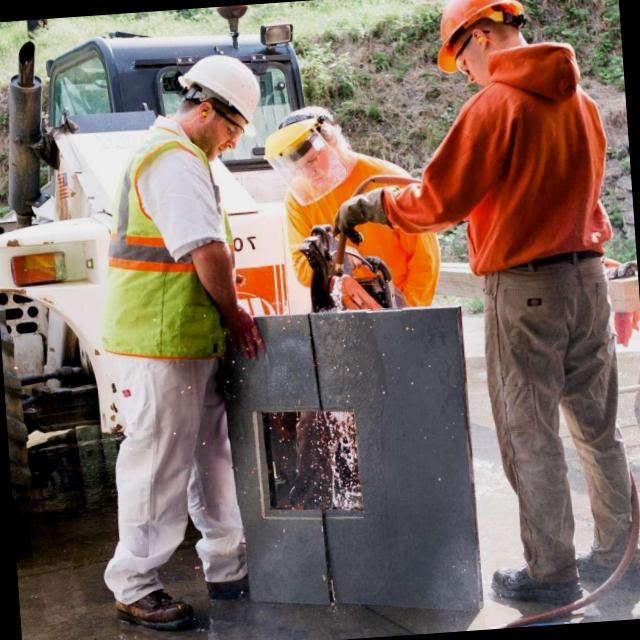helmet: (170, 51, 268, 140), (418, 0, 537, 72)
no-vest: (438, 46, 620, 295)
vest: (84, 134, 252, 380)
